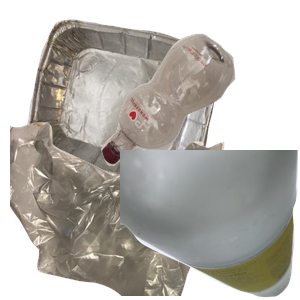glass: (120, 150, 300, 300)
metal: (23, 17, 236, 197)
plastic: (99, 31, 300, 189)
trash: (10, 120, 231, 300)
